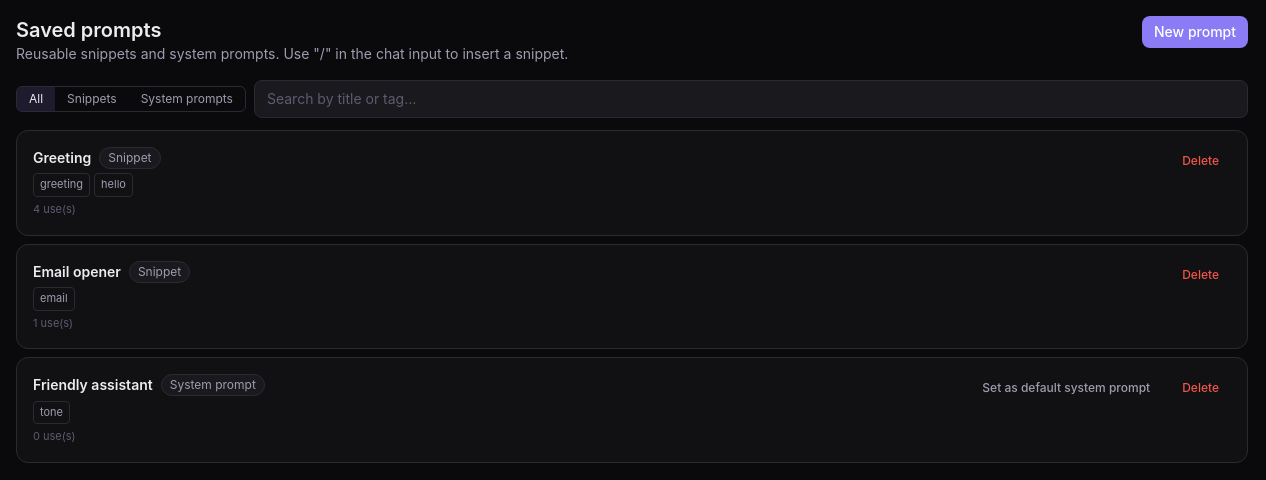
Test: PromptLibraryPanel search › filters by title substring
Check: the list item with test id "prompt-row-snip-a" is shown, box 16,130 -> 1248,236
Type "Email" into the field with test id "prompt-search-input". click: (751, 99)
box: 254,80 -> 1248,118
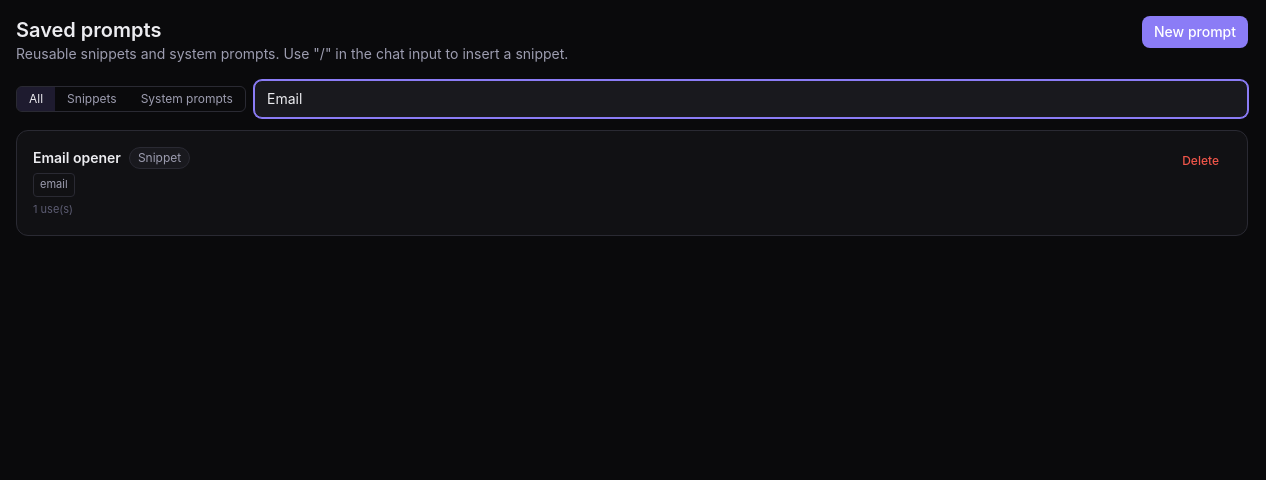
Check: the list item with test id "prompt-row-snip-b" is shown, box 16,130 -> 1248,236
Check: the list item with test id "prompt-row-snip-a" is gone
Check: the list item with test id "prompt-row-sys-a" is gone
